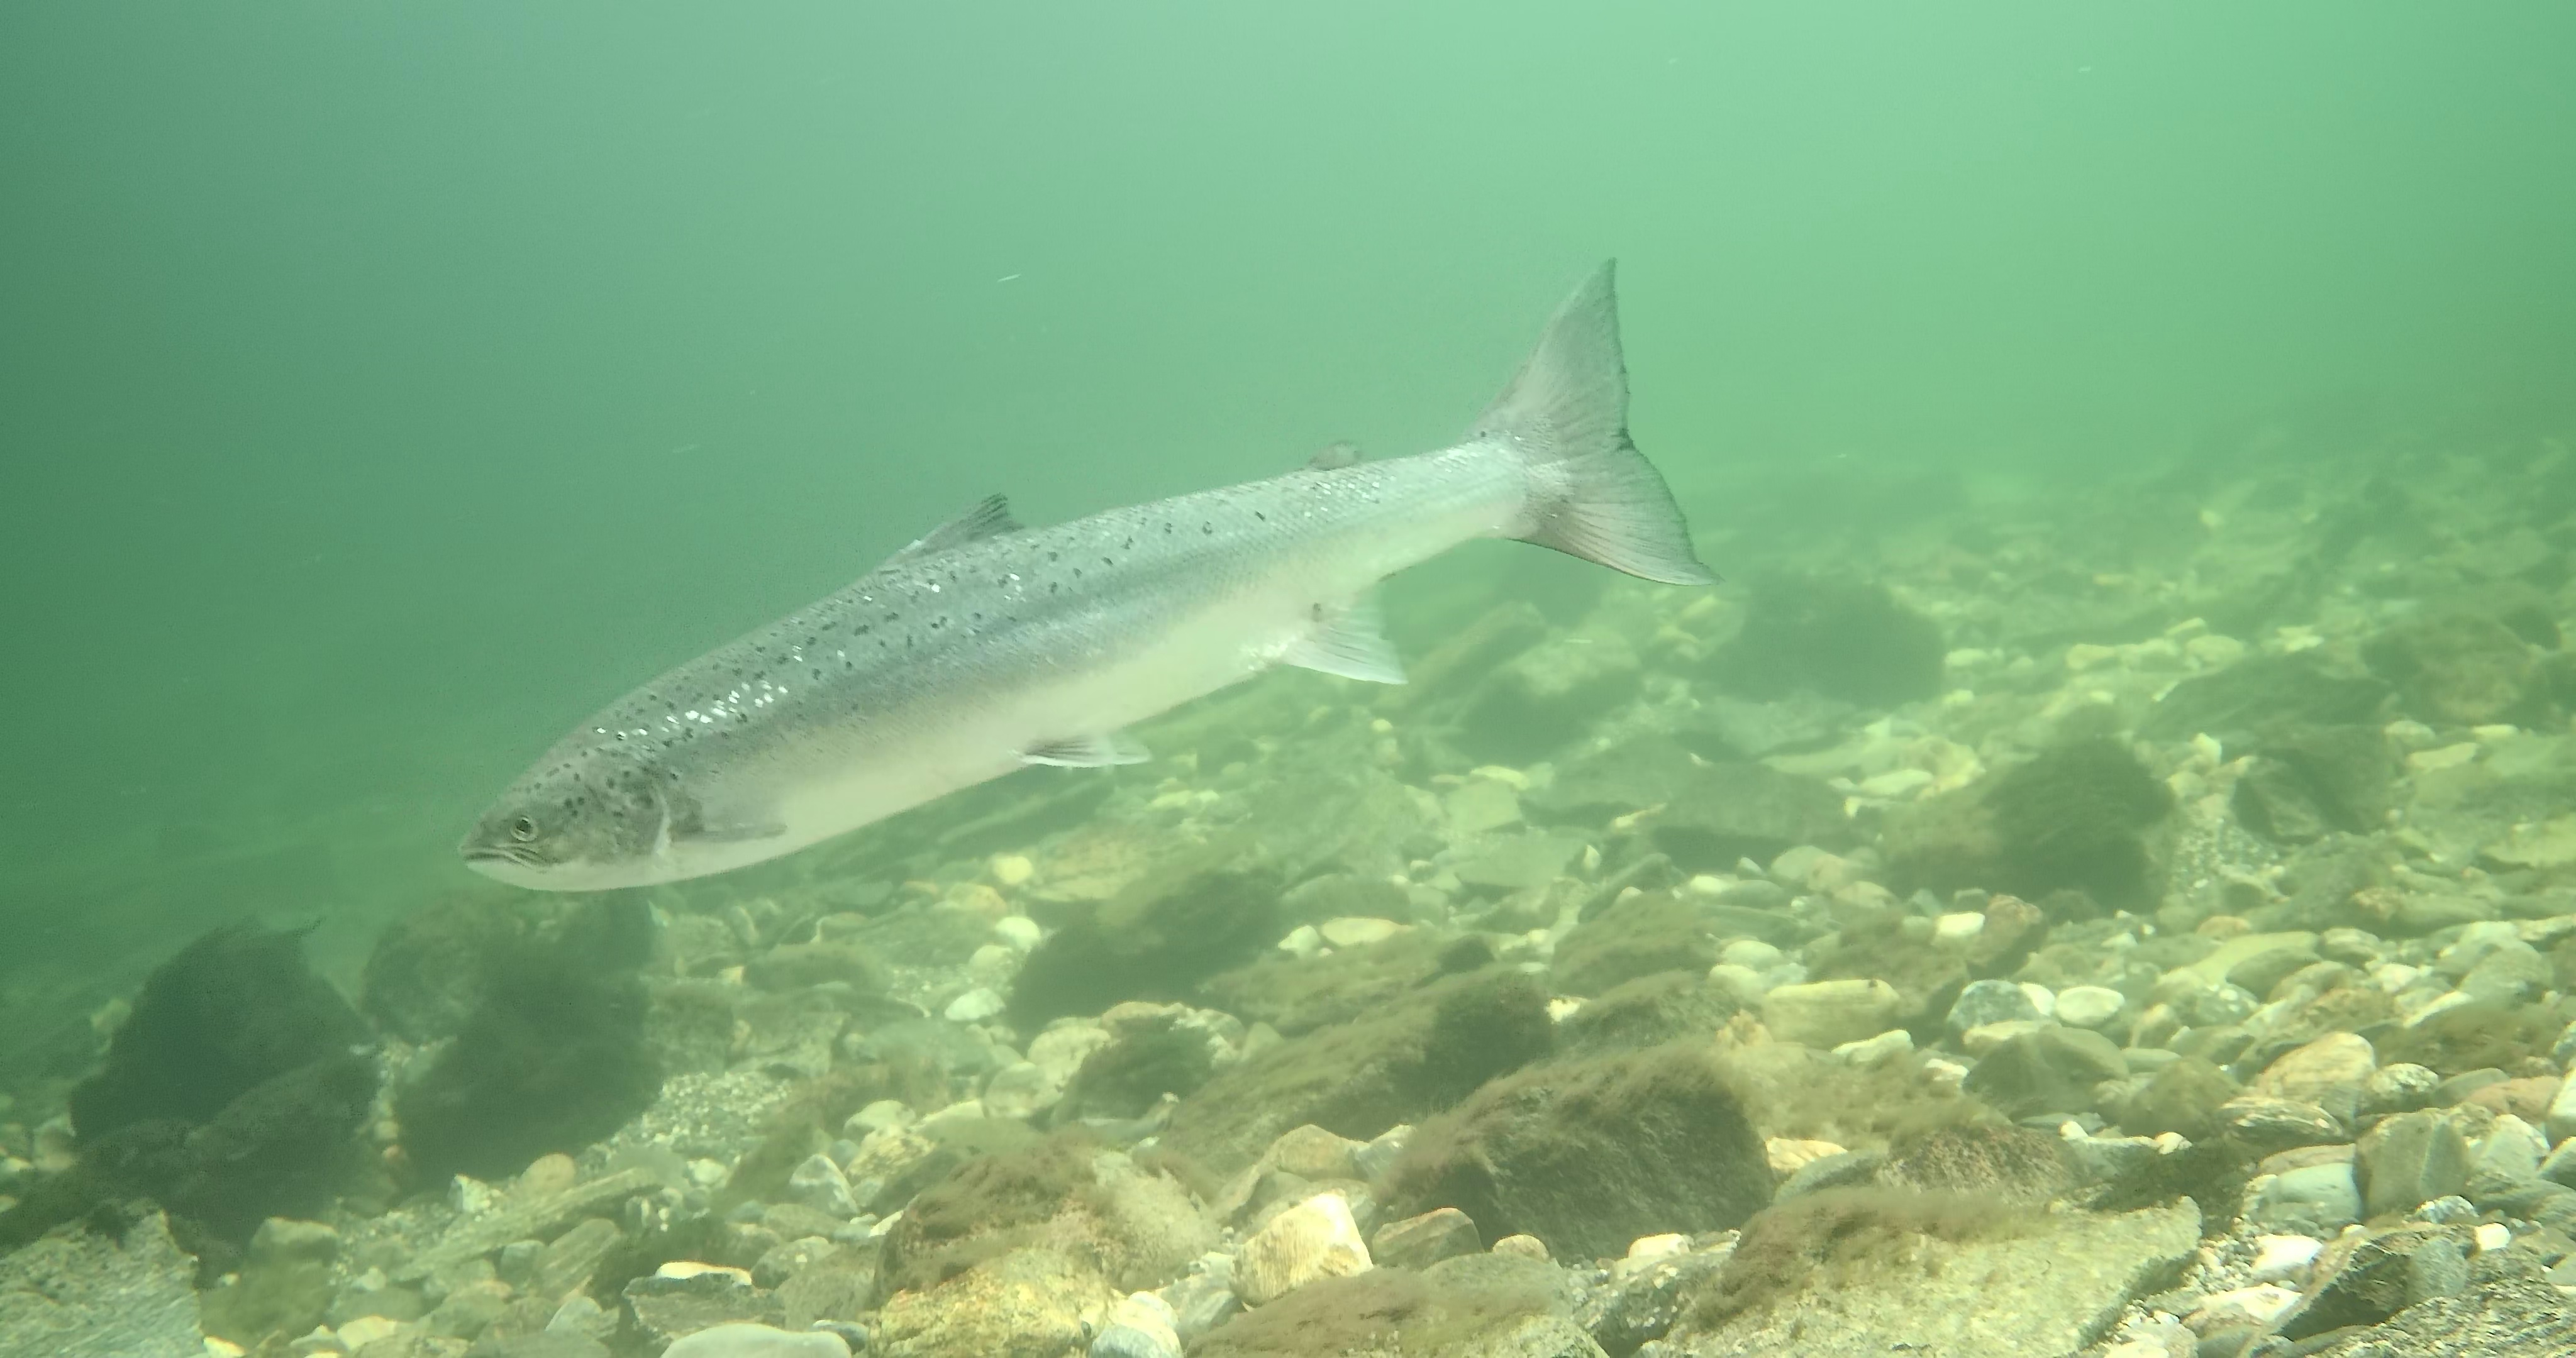salmon: (455, 249, 1722, 898)
